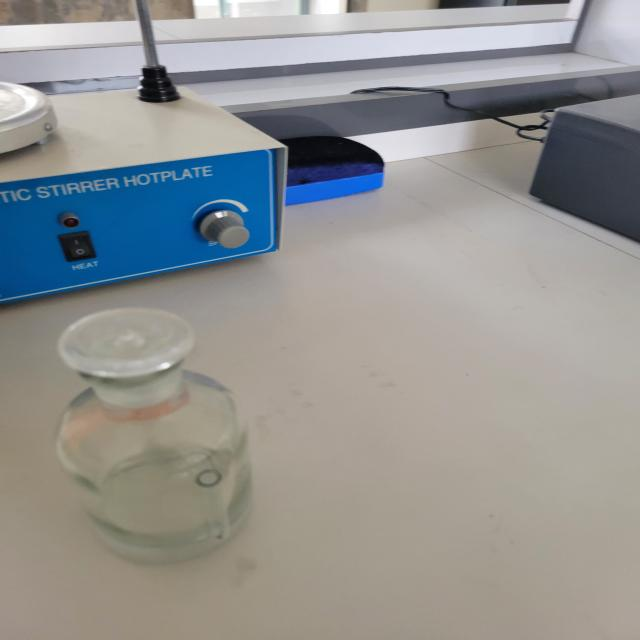Reagent_Bottle: (13, 278, 303, 596)
